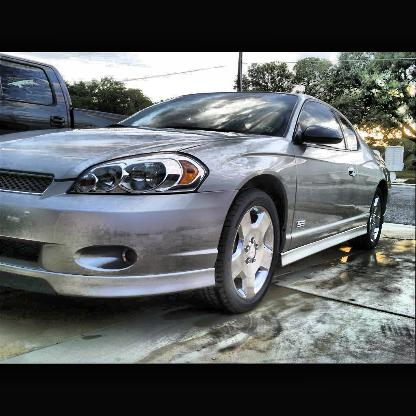Chevrolet Monte Carlo Coupe 2007: (1, 92, 391, 315)
